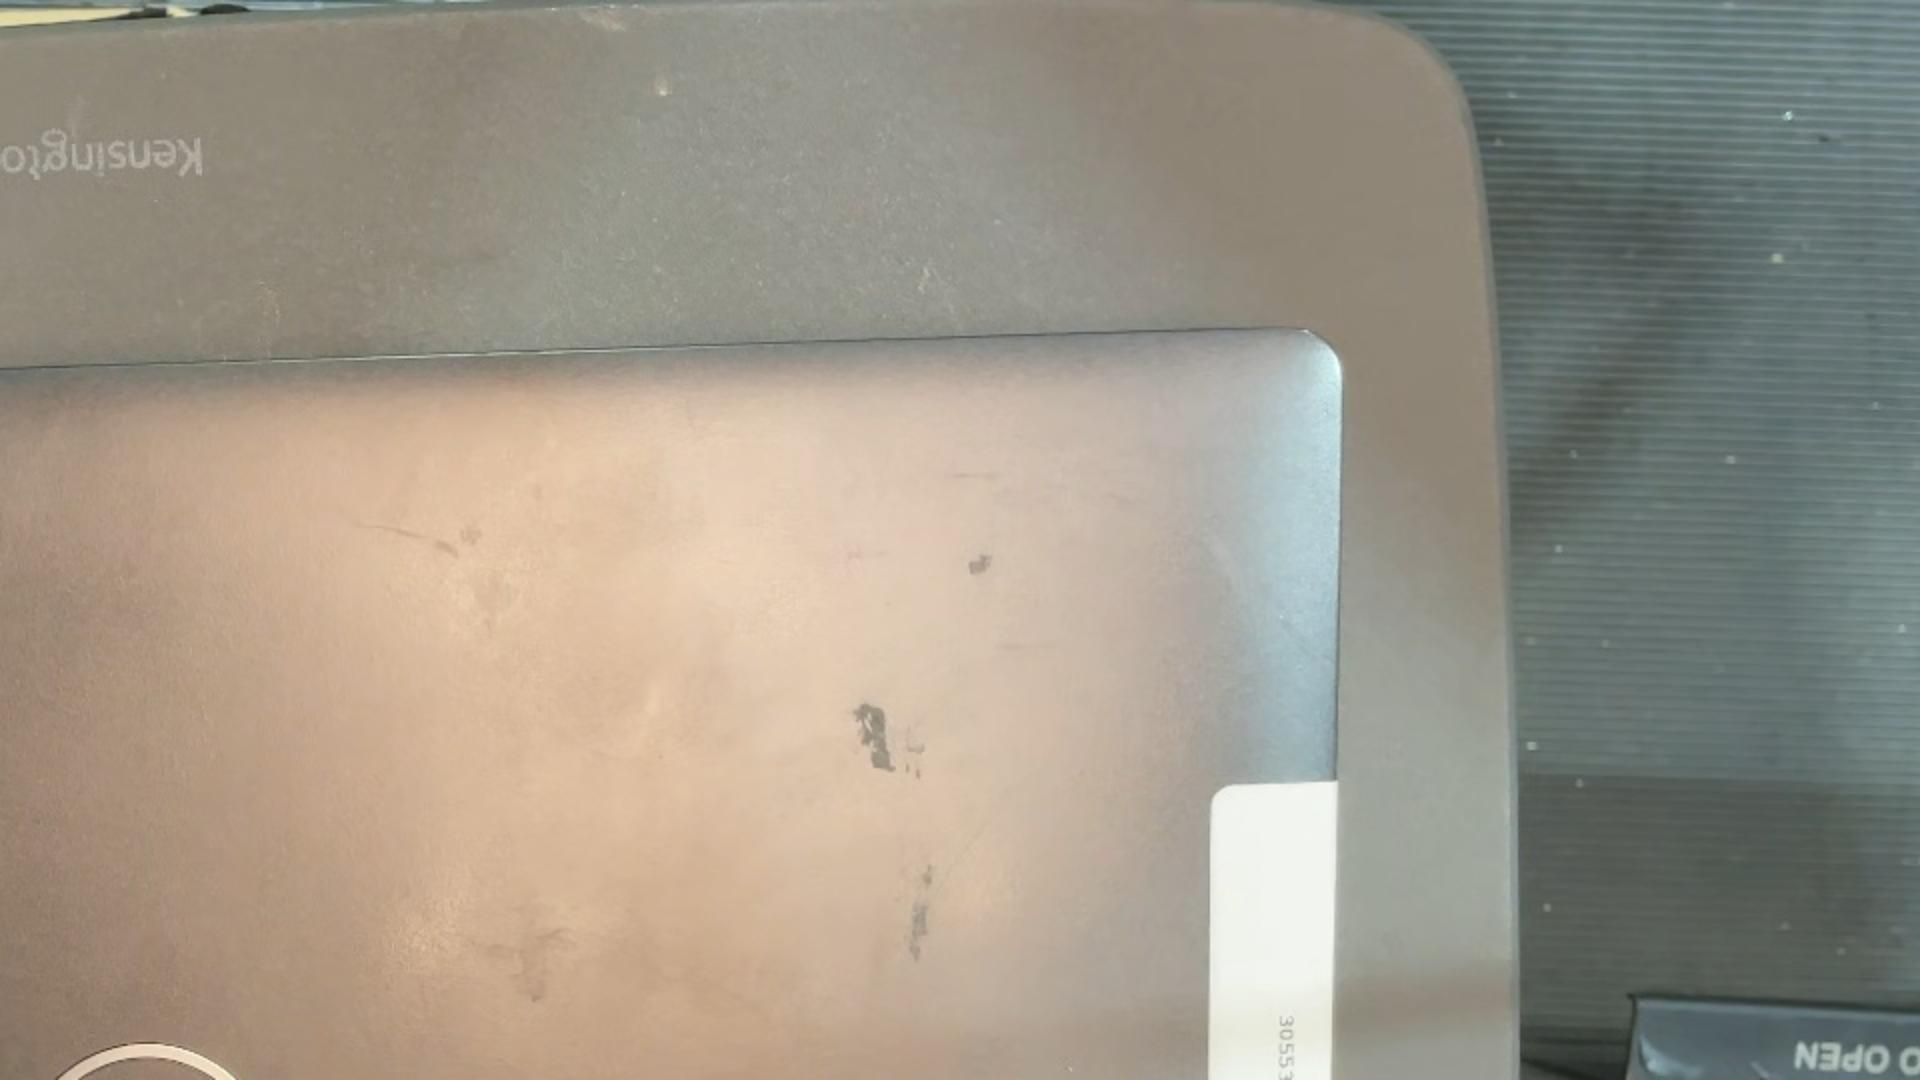scratches: (354, 523, 421, 540)
